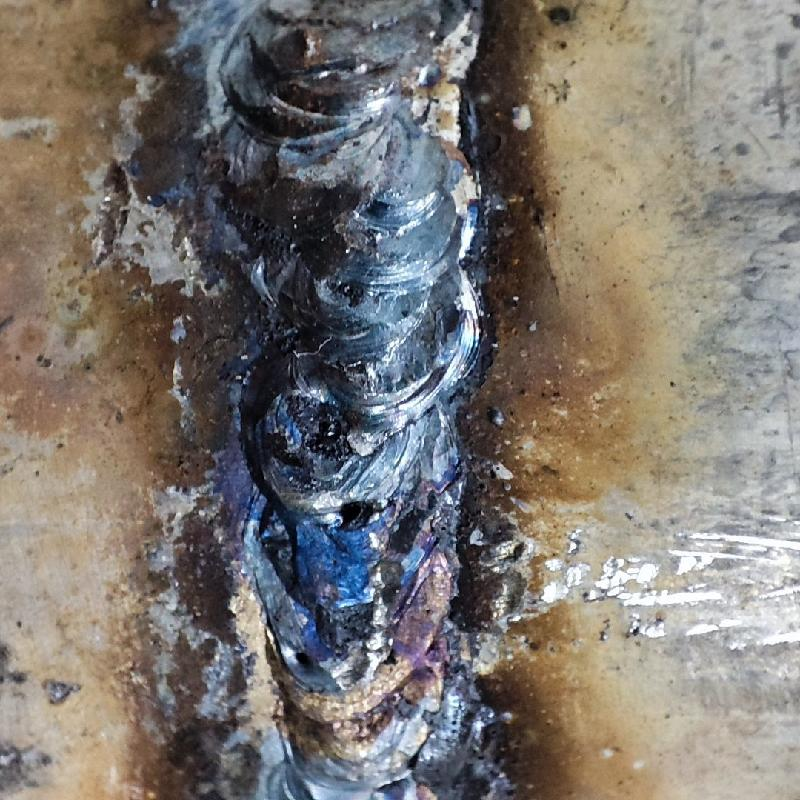Surface_pores: (273, 608, 353, 677), (325, 485, 384, 548)
